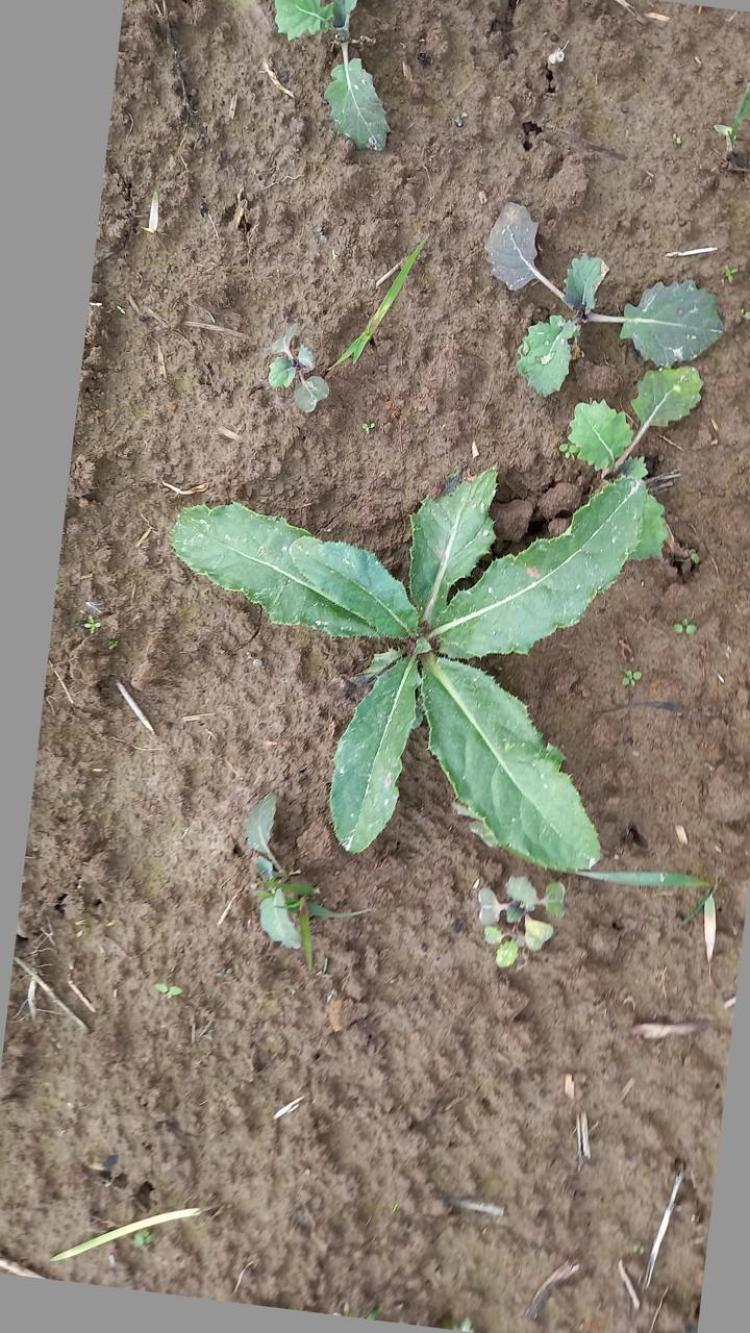bodyak: (150, 456, 669, 885)
